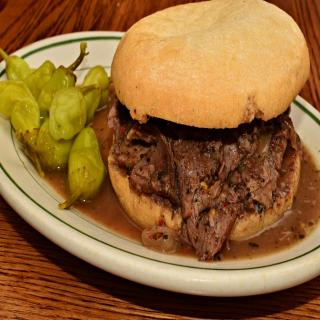Hamburger: (107, 0, 311, 260)
